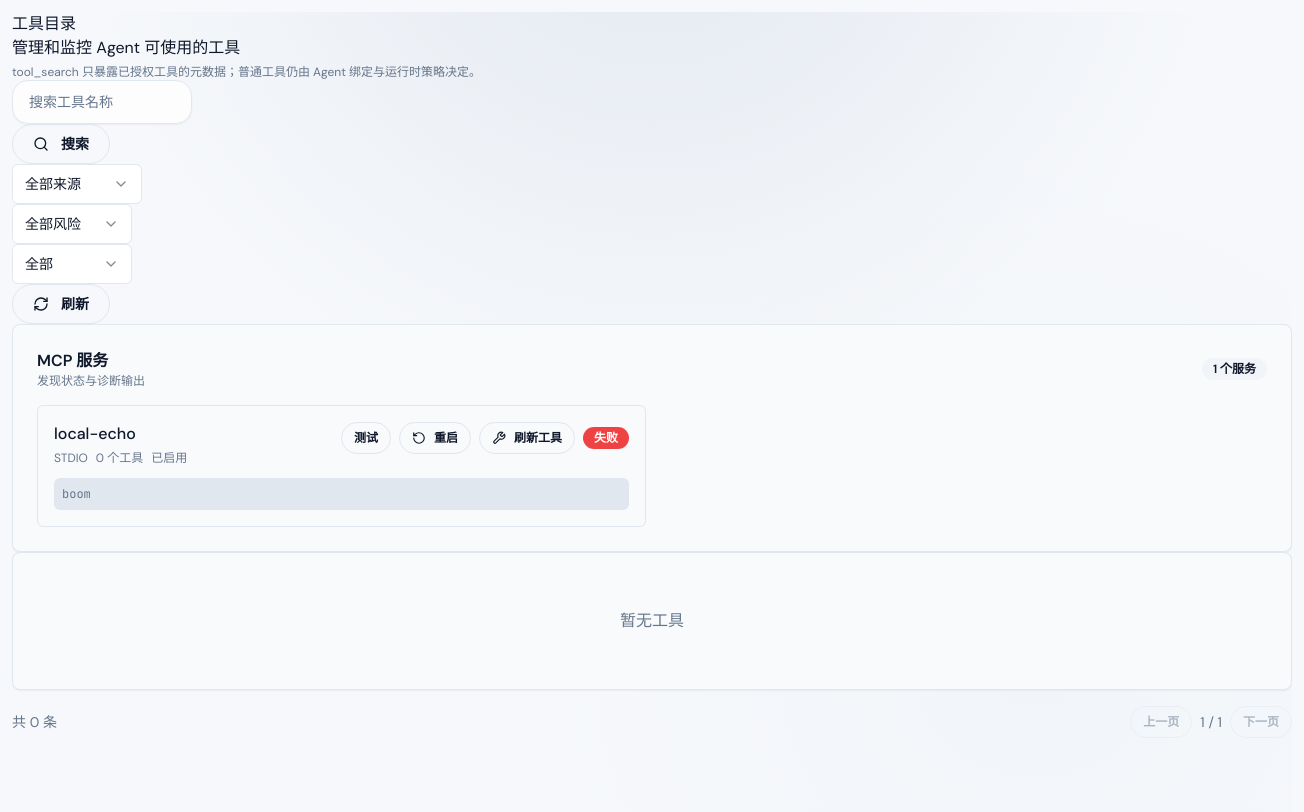
Test: ToolCatalogPage › restarts MCP server from the server panel and reloads statuses
Expected: the text "boom" is shown, 54,478 -> 629,510
Click the button with aria-label "restart-local-echo" at (435, 438), box 399,422 -> 471,454
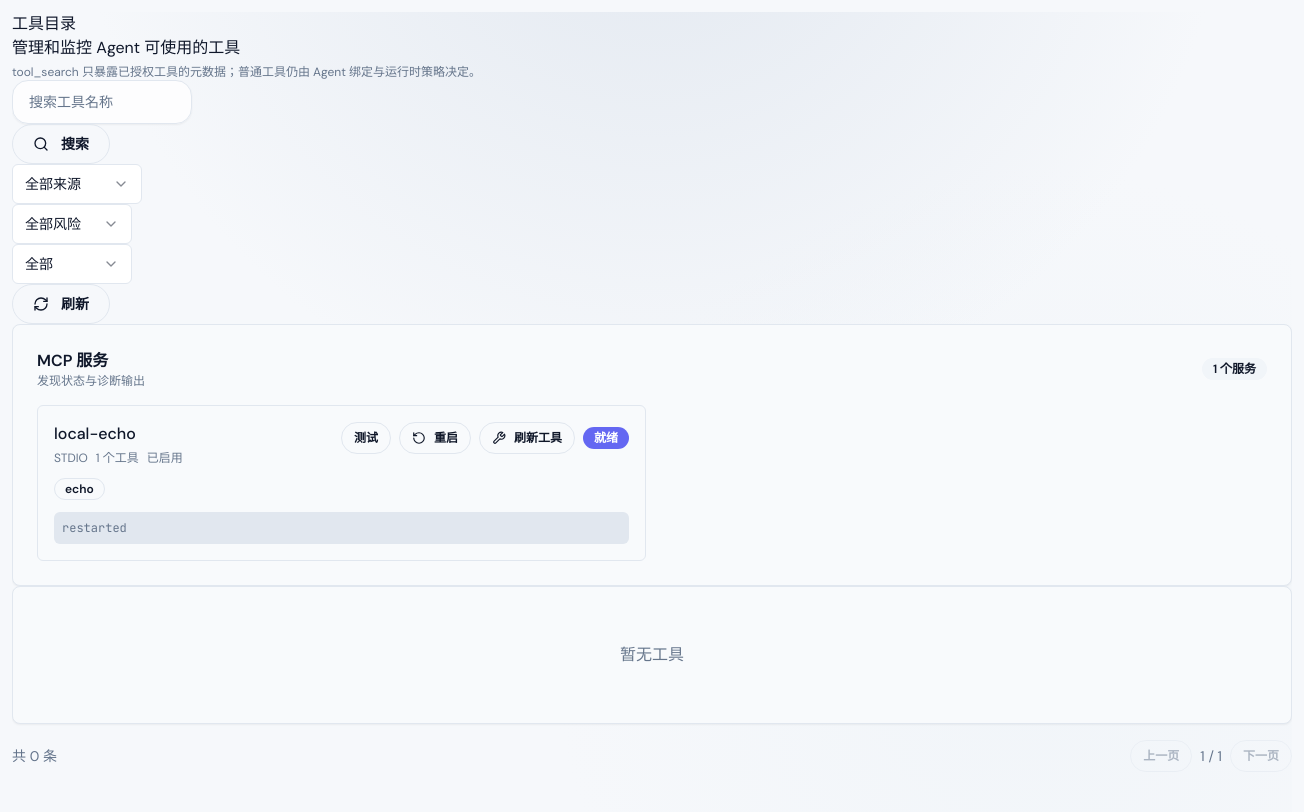
Expected: the text "restarted" is shown, 54,512 -> 629,544
